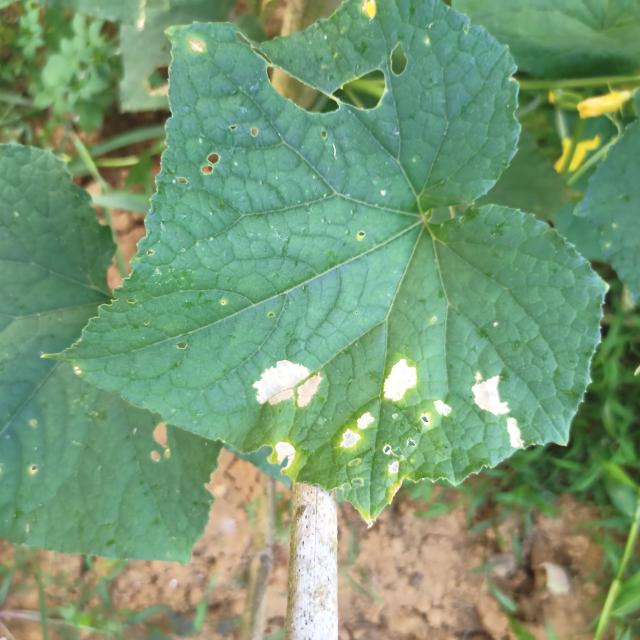disease_cucumber: (334, 351, 459, 477), (468, 366, 530, 451), (251, 355, 327, 414), (264, 435, 303, 474)
